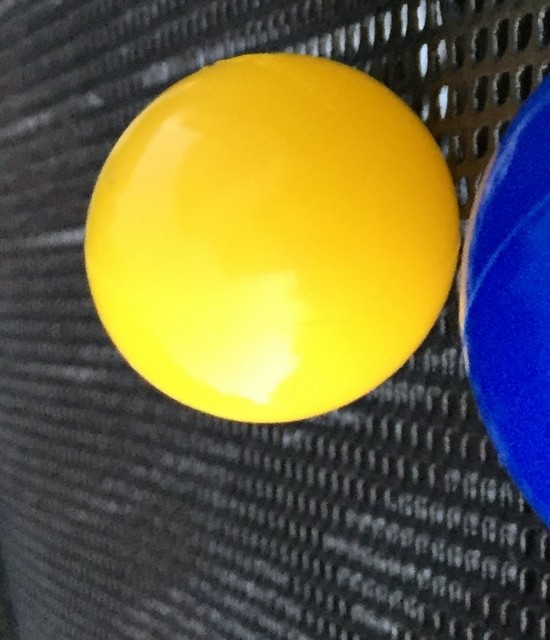Ball: (87, 50, 464, 427)
